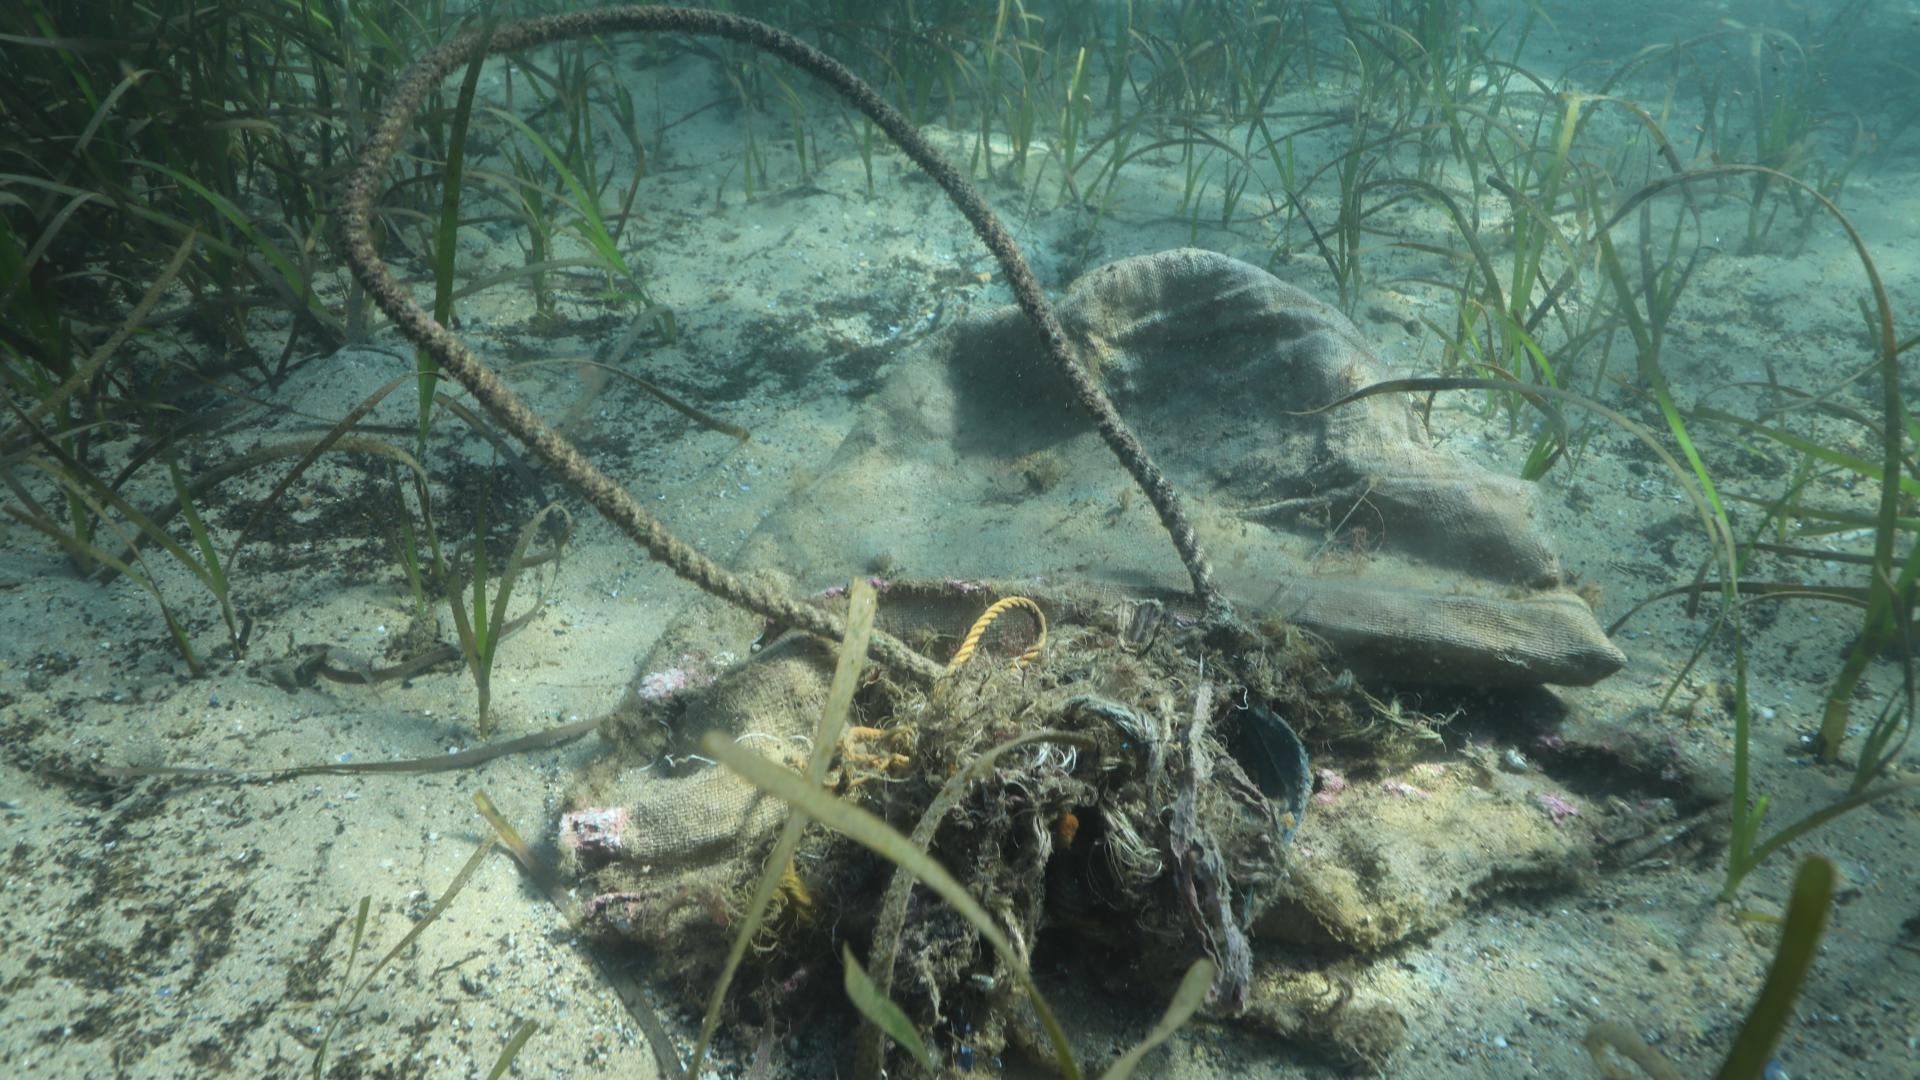bundle of ropes: (835, 589, 1054, 771)
rope: (342, 0, 1238, 661)
